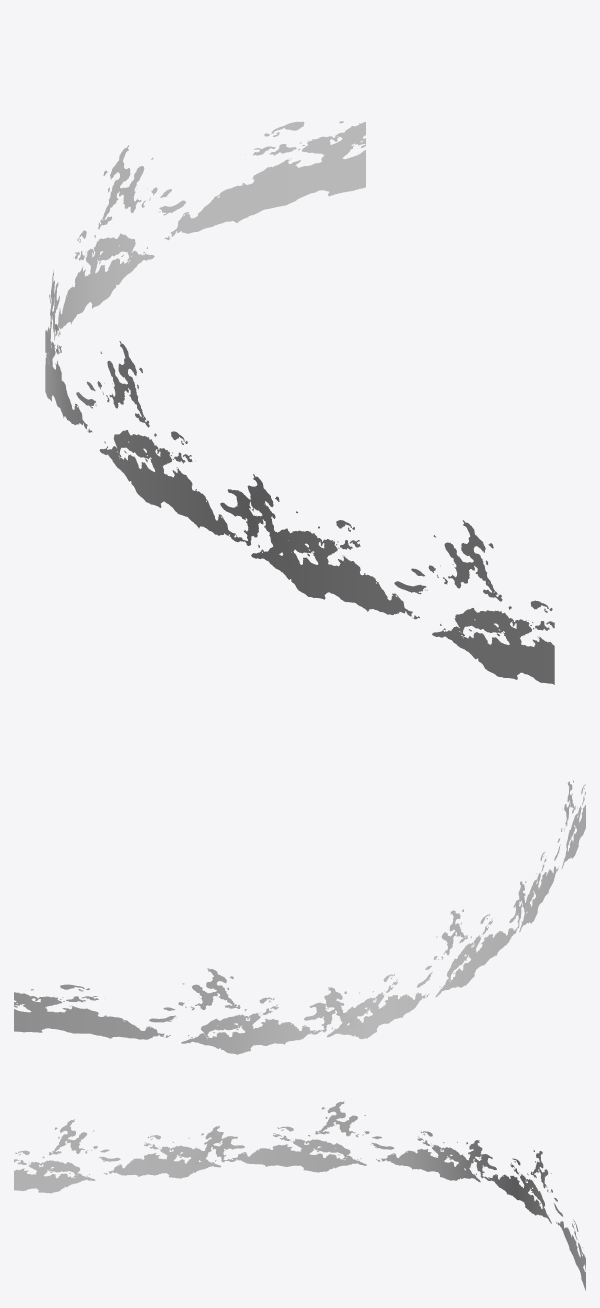
The model's file is FaYuanWai_03_yun.FBX.
3 views of the same model, one above another, from view 1: azimuth 30°, elevation 25°; view 2: azimuth 150°, elevation 25°; view 3: azimuth 270°, elevation 25° (orthographic). The views are drawn at different scales.
Parts seen in each view (by area): view 1: Plane008; view 2: Plane008; view 3: Plane008.
Part boxes in pixels (<box>): Plane008: <box>45,121,554,684</box>; Plane008: <box>14,780,585,1054</box>; Plane008: <box>14,1101,585,1290</box>.
Bounding box in the file's own units: 60060 × 20929 × 122006.
Materials: 1 (1 with a texture image).
